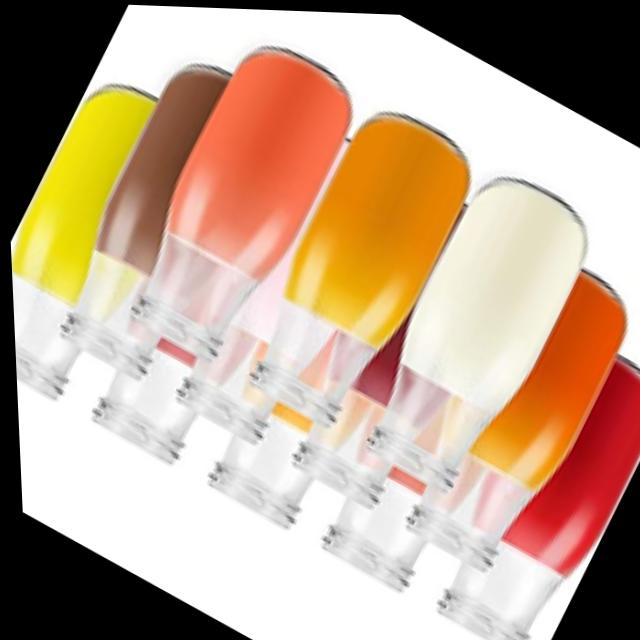glass_beverage_bottles: (230, 102, 491, 436), (344, 164, 598, 495)
